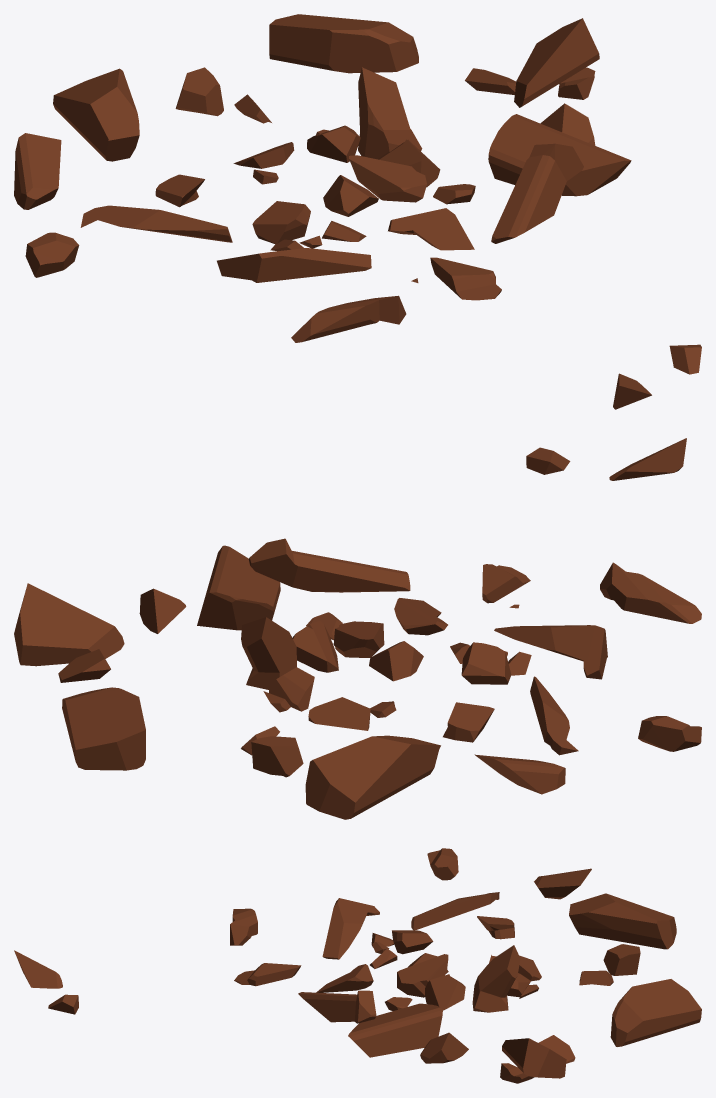
Rendered from Tuh_pil1.fbx.
The picture shows the model from 3 angles, top to bottom: view 1: azimuth 30°, elevation 25°; view 2: azimuth 150°, elevation 25°; view 3: azimuth 270°, elevation 25°; orthographic projection. The views are drawn at different scales.
Visible parts, largest first — view 1: Cube.006_cell.026, Cube.006_cell.034, Cube.006_cell.028, Cube.006_cell.041, Cube.006_cell.038, Cube.006_cell.031, Cube.006_cell.039, Cube.006_cell.023, Cube.006_cell.043, Cube.006_cell.019, Cube.006_cell.005, Cube.006_cell.030 (+15 smaller); view 2: Cube.006_cell.034, Cube.006_cell.026, Cube.006_cell.038, Cube.006_cell.041, Cube.006_cell.028, Cube.006_cell.019, Cube.006_cell.031, Cube.006_cell.039, Cube.006_cell.023, Cube.006_cell.043, Cube.006_cell.035, Cube.006_cell.025 (+13 smaller); view 3: Cube.006_cell.026, Cube.006_cell.034, Cube.006_cell.028, Cube.006_cell.039, Cube.006_cell.031, Cube.006_cell.041, Cube.006_cell.038, Cube.006_cell.005, Cube.006_cell.043, Cube.006_cell.023, Cube.006_cell.033, Cube.006_cell.017 (+13 smaller).
Part boxes in pixels (x1,y1,x2,y2): Cube.006_cell.026: [269, 14, 418, 73]; Cube.006_cell.034: [53, 68, 139, 161]; Cube.006_cell.028: [488, 114, 631, 196]; Cube.006_cell.041: [491, 143, 583, 243]; Cube.006_cell.038: [514, 18, 599, 107]; Cube.006_cell.031: [217, 248, 371, 282]; Cube.006_cell.039: [358, 67, 422, 159]; Cube.006_cell.023: [14, 133, 61, 209]; Cube.006_cell.043: [80, 205, 232, 242]; Cube.006_cell.019: [291, 295, 406, 342]; Cube.006_cell.005: [349, 155, 426, 202]; Cube.006_cell.030: [388, 208, 474, 250]; Cube.006_cell.034: [305, 735, 440, 819]; Cube.006_cell.026: [62, 687, 145, 770]; Cube.006_cell.038: [14, 583, 124, 666]; Cube.006_cell.041: [248, 538, 410, 592]; Cube.006_cell.028: [197, 545, 280, 630]; Cube.006_cell.019: [600, 562, 701, 623]; Cube.006_cell.031: [494, 625, 607, 679]; Cube.006_cell.039: [241, 617, 296, 689]; Cube.006_cell.023: [474, 754, 565, 794]; Cube.006_cell.043: [530, 676, 578, 755]; Cube.006_cell.035: [461, 642, 511, 684]; Cube.006_cell.025: [251, 736, 303, 777]; Cube.006_cell.026: [610, 979, 701, 1046]; Cube.006_cell.034: [569, 893, 676, 949]; Cube.006_cell.028: [348, 1003, 442, 1057]; Cube.006_cell.039: [472, 945, 520, 1012]; Cube.006_cell.031: [322, 898, 379, 959]; Cube.006_cell.041: [298, 990, 376, 1023]; Cube.006_cell.038: [502, 1038, 566, 1078]; Cube.006_cell.005: [397, 954, 448, 997]; Cube.006_cell.043: [411, 892, 499, 930]; Cube.006_cell.023: [534, 868, 591, 899]; Cube.006_cell.033: [425, 974, 465, 1010]; Cube.006_cell.017: [420, 1032, 468, 1063].
Size of the model in its own units: 1305 by 155 by 1689.
